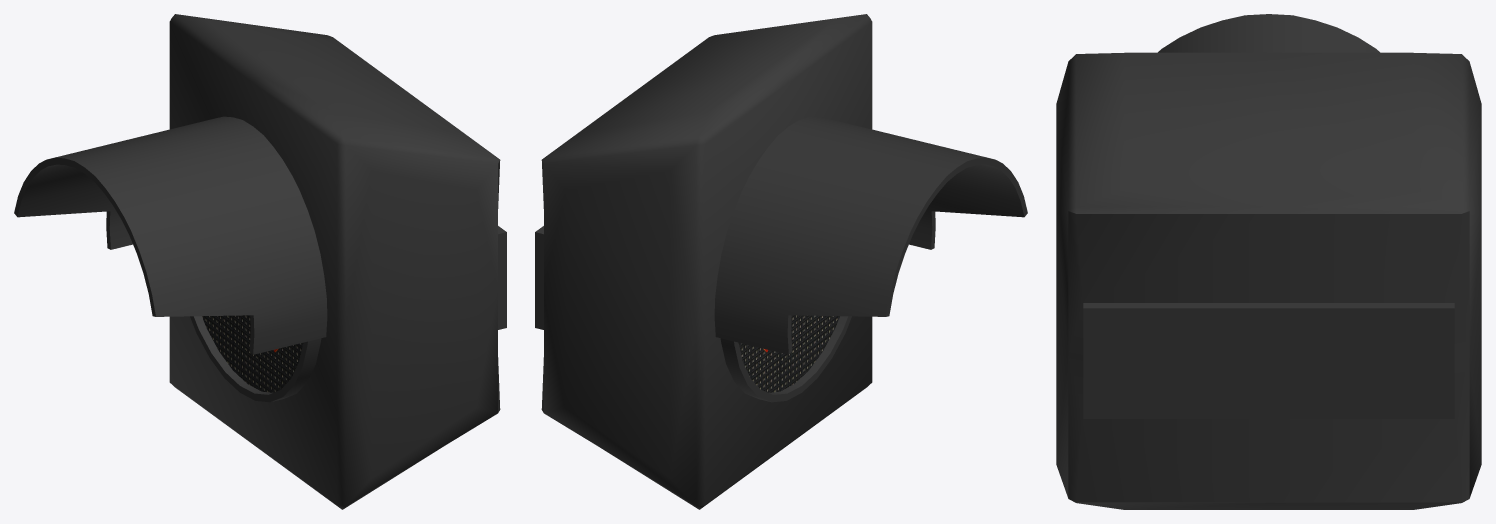
File: 车道信号灯_RedLight.fbx
3 views of the same model, side by side, from view 1: azimuth 30°, elevation 25°; view 2: azimuth 150°, elevation 25°; view 3: azimuth 270°, elevation 25° (orthographic). The views are drawn at different scales.
Parts seen in each view (by area): view 1: 车道信号灯_RedLight; view 2: 车道信号灯_RedLight; view 3: 车道信号灯_RedLight.
Boxes of the visible parts, x1,y1,x2,y2 form: 车道信号灯_RedLight: (14,14,506,509); 车道信号灯_RedLight: (535,14,1027,509); 车道信号灯_RedLight: (1056,14,1481,509).
Size of the model in its own units: 0.6 by 0.65 by 0.5618.
Materials: 3 (2 with a texture image).
